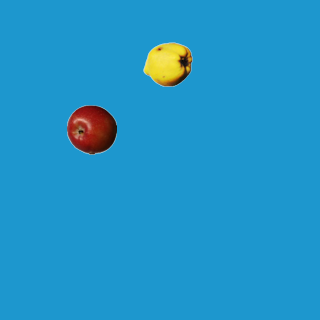Apple Braeburn: (66, 104, 116, 154)
Quince: (142, 39, 192, 89)
